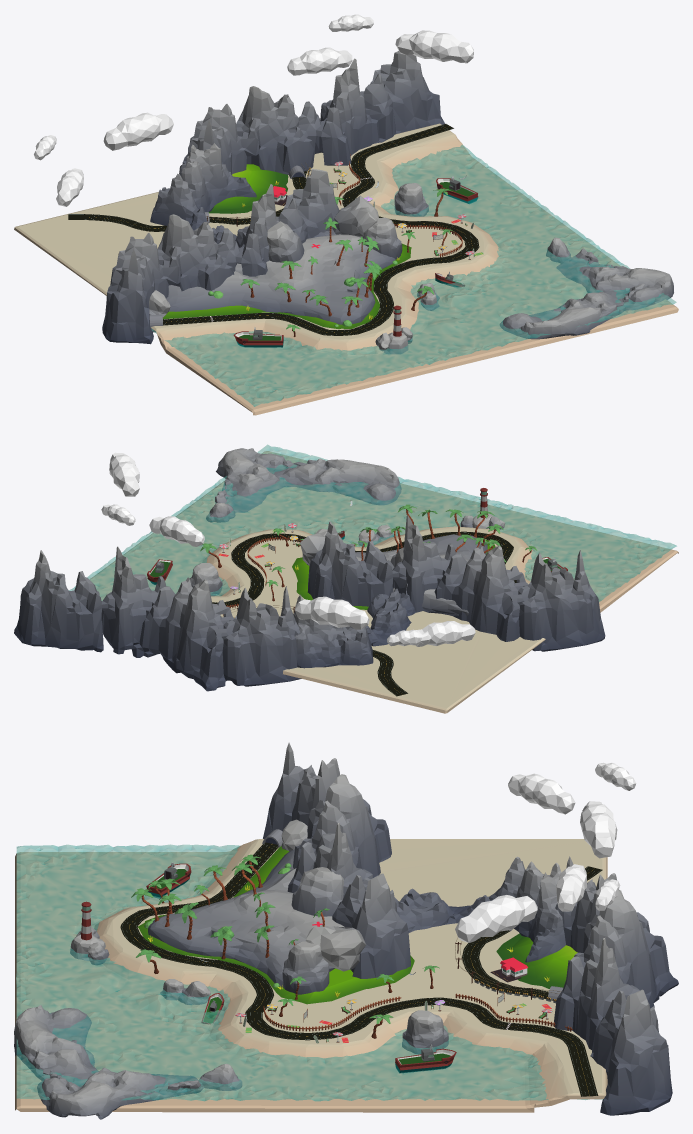
File: showcaseBeachRaceMap.856e9218.glb
3 views of the same model, one above another, from view 1: azimuth 30°, elevation 25°; view 2: azimuth 150°, elevation 25°; view 3: azimuth 270°, elevation 25° (orthographic). The views are drawn at different scales.
Visible parts, largest first — view 1: Plane.061, Plane.069, Plane.080, Plane.074, Plane.070, Cliff4.004, Plane.048, Plane.082, Mball.009, Mball.012, Plane.085, Plane.084 (+10 smaller); view 2: Plane.061, Plane.069, Plane.080, Plane.074, Cliff4.004, Plane.082, Plane.048, Mball.012, Plane.070, Mball.007, Mball.009, Mball.010 (+7 smaller); view 3: Plane.061, Plane.069, Plane.080, Plane.074, Cliff4.004, Plane.070, Plane.048, Plane.082, Plane.085, Mball.009, Plane.084, Cliff2.024 (+14 smaller).
Boxes of the visible parts, <box> form: Plane.061: <box>14,123,678,415</box>; Plane.069: <box>151,145,676,406</box>; Plane.080: <box>182,51,444,174</box>; Plane.074: <box>102,169,339,344</box>; Plane.070: <box>166,234,395,324</box>; Cliff4.004: <box>499,237,673,339</box>; Plane.048: <box>163,124,479,335</box>; Plane.082: <box>150,143,256,244</box>; Mball.009: <box>395,30,473,63</box>; Mball.012: <box>103,112,173,150</box>; Plane.085: <box>163,243,411,329</box>; Plane.084: <box>208,164,288,213</box>; Plane.061: <box>89,451,678,713</box>; Plane.069: <box>69,444,676,602</box>; Plane.080: <box>14,546,301,691</box>; Plane.074: <box>307,515,605,651</box>; Cliff4.004: <box>206,448,401,522</box>; Plane.082: <box>293,583,415,668</box>; Plane.048: <box>212,531,516,606</box>; Mball.012: <box>295,596,369,629</box>; Plane.070: <box>355,534,487,615</box>; Mball.007: <box>149,516,204,546</box>; Mball.009: <box>109,452,139,496</box>; Mball.010: <box>416,621,475,646</box>; Plane.061: <box>15,839,607,1112</box>; Plane.069: <box>16,844,603,1101</box>; Plane.080: <box>553,856,678,1115</box>; Plane.074: <box>263,742,410,978</box>; Cliff4.004: <box>14,1005,242,1119</box>; Plane.070: <box>148,849,344,987</box>; Plane.048: <box>120,842,598,1096</box>; Plane.082: <box>394,856,565,962</box>; Plane.085: <box>138,846,414,1004</box>; Mball.009: <box>455,895,537,942</box>; Plane.084: <box>496,933,577,988</box>; Cliff2.024: <box>291,867,343,916</box>.
Size of the model in its own units: 27359 by 9110 by 26615.
Materials: 2 (2 with a texture image).
